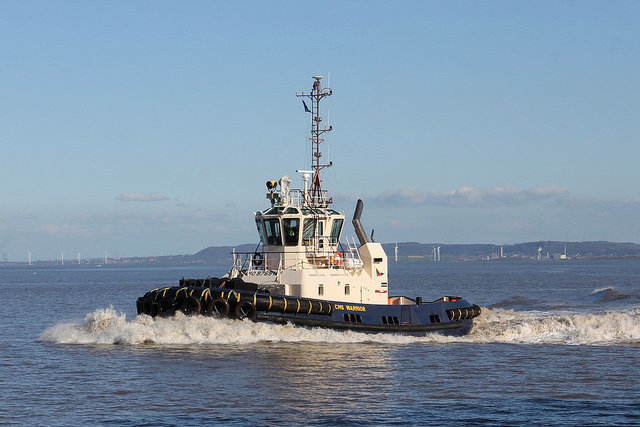tug_boat: (130, 69, 485, 343)
